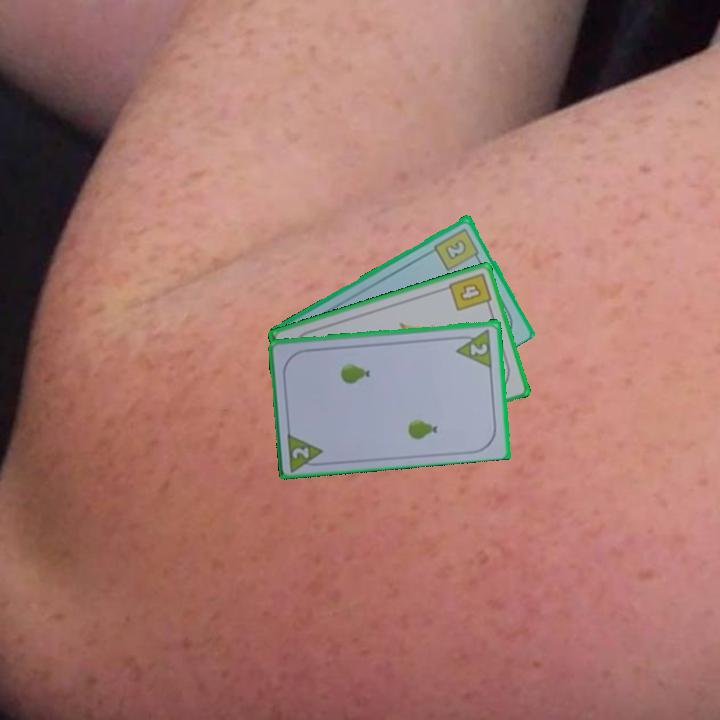2b: (431, 224, 483, 273)
2p: (284, 428, 328, 473), (467, 340, 491, 358)
4b: (445, 269, 494, 314)
